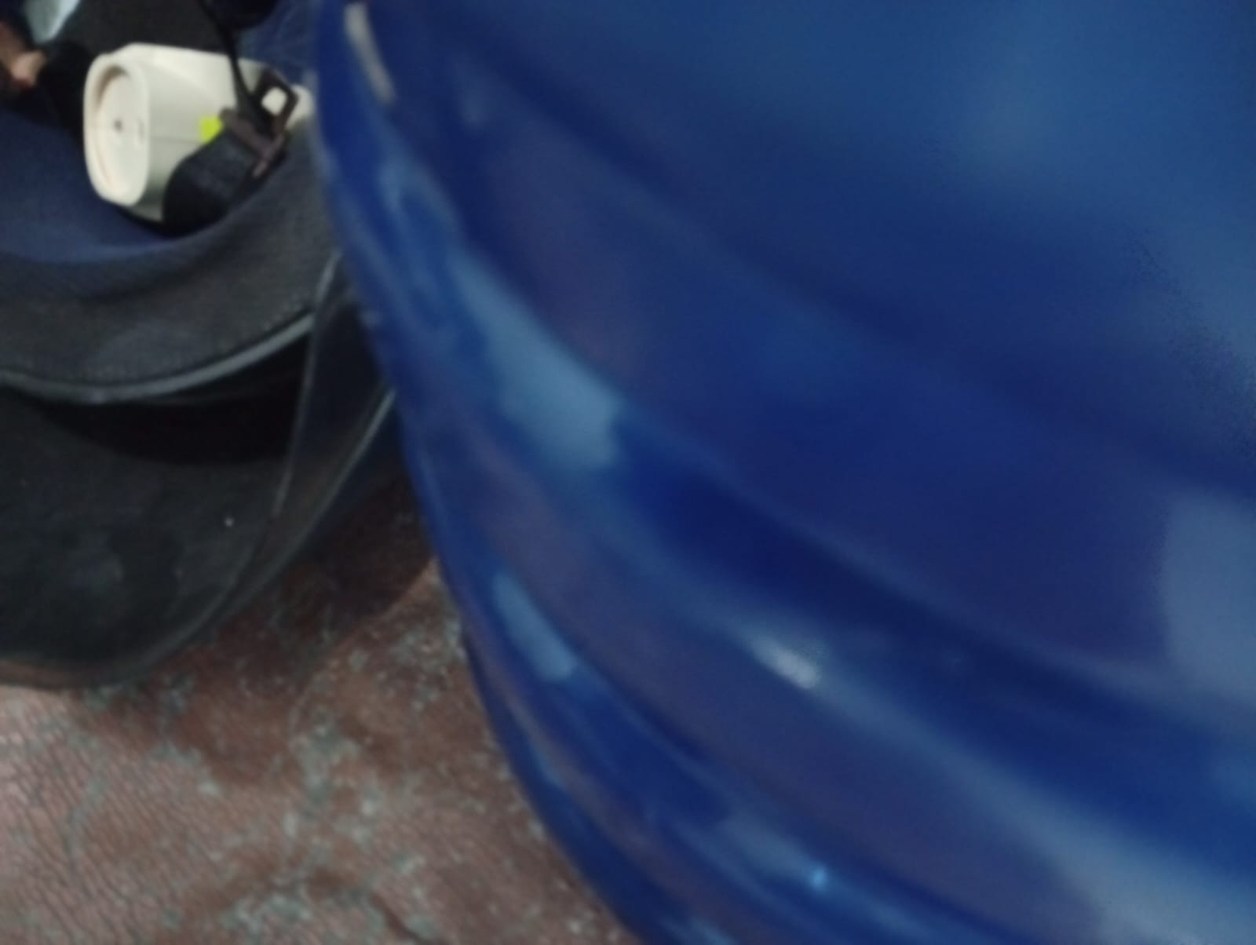Colokan: (37, 20, 341, 231)
